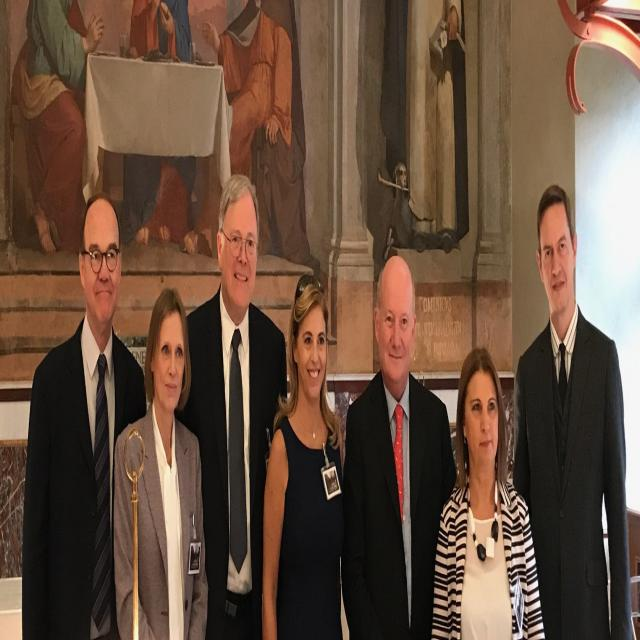body: (21, 189, 149, 640), (510, 180, 635, 640), (174, 171, 288, 639), (341, 253, 456, 639), (112, 283, 210, 640), (431, 344, 547, 640), (260, 269, 346, 640)
